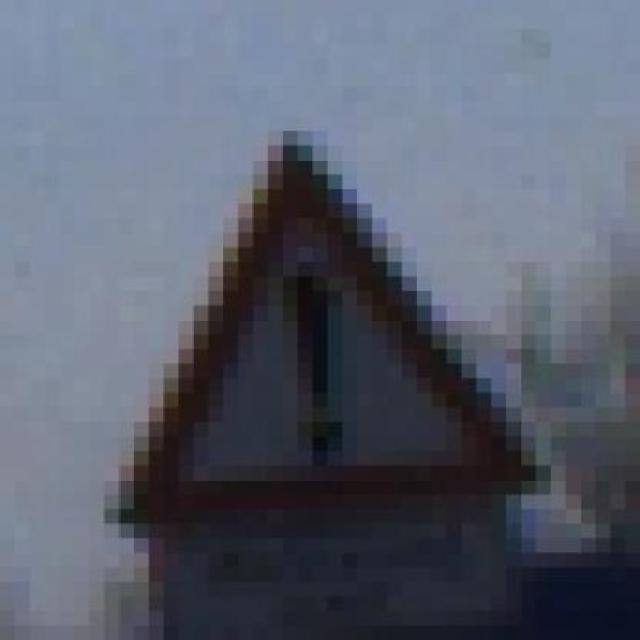Attention Please-: (44, 131, 550, 552)
